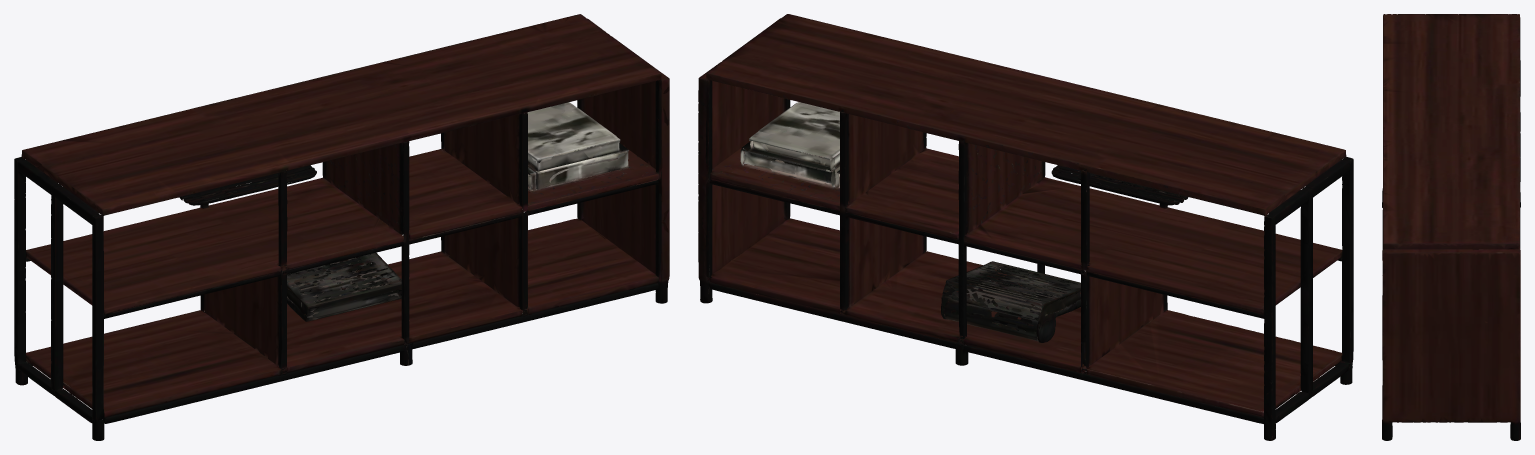
Rendered from tv_console.glb.
3 renders of one model, left to right at view 1: azimuth 30°, elevation 25°; view 2: azimuth 150°, elevation 25°; view 3: azimuth 270°, elevation 25°, orthographic. The views are drawn at different scales.
Parts seen in each view (by area): view 1: geometry_0; view 2: geometry_0; view 3: geometry_0.
Part boxes in pixels (<box>): geometry_0: <box>14,14,669,440</box>; geometry_0: <box>698,14,1353,440</box>; geometry_0: <box>1382,14,1520,440</box>.
Size of the model in its own units: 1.8 by 0.6909 by 0.4477.
Materials: 1 (1 with a texture image).
